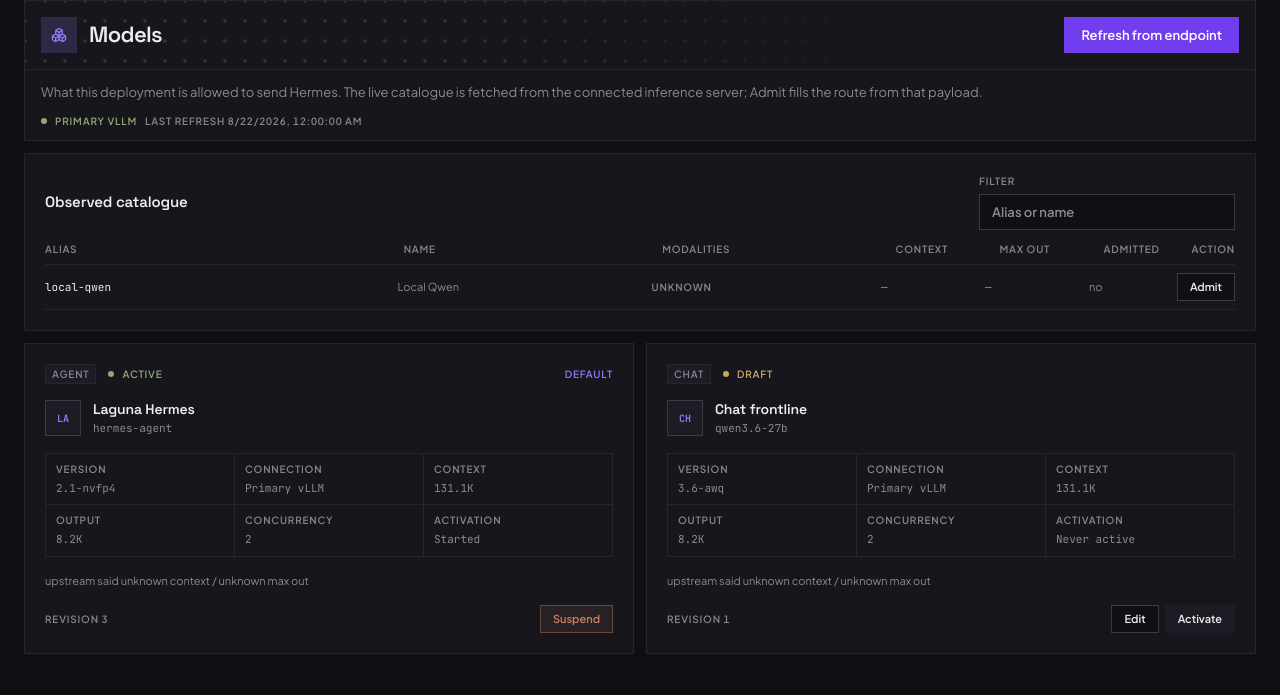
Scenario: naming a new route › keeps Save reachable when the form grows past the viewport
The width and height of the screenshot is (1280, 695).
Check: the heading "Laguna Hermes" is shown, box top-left (93, 400), bottom-right (195, 418)
Click the button "Admit".
click(1206, 287)  # box top-left (1177, 273), bottom-right (1235, 301)
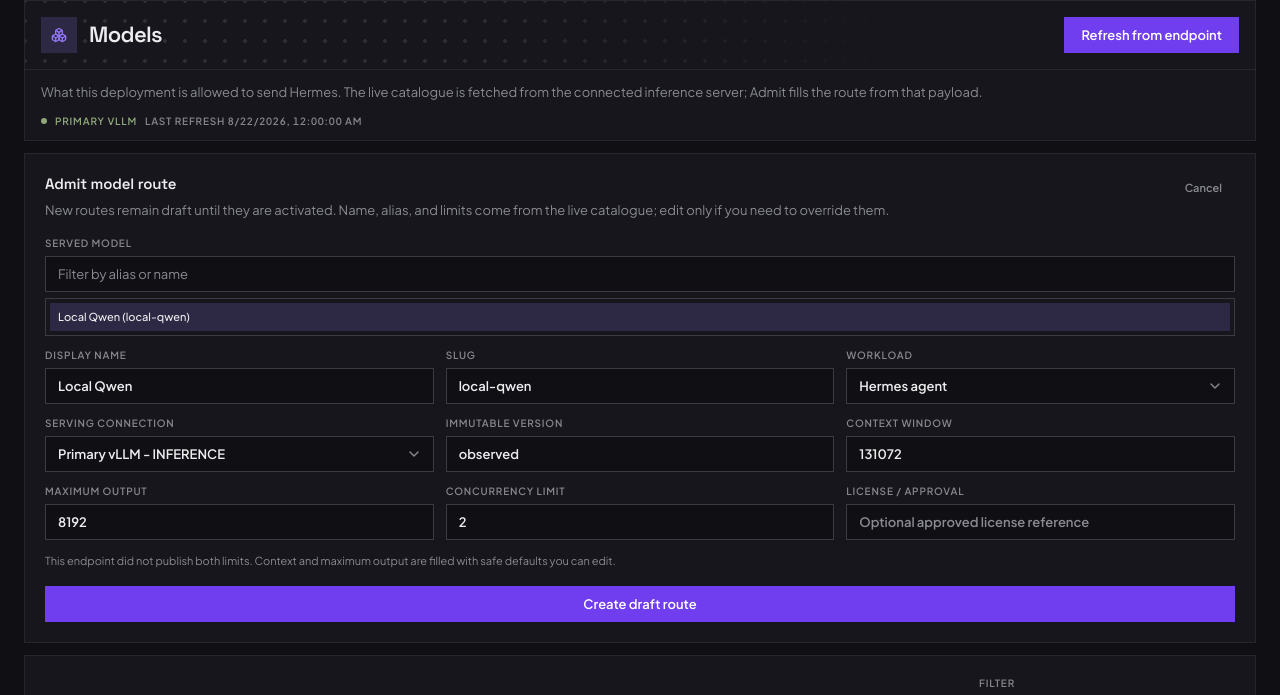
Check: the field labelled "Slug" is shown, box top-left (446, 368), bottom-right (834, 404)
